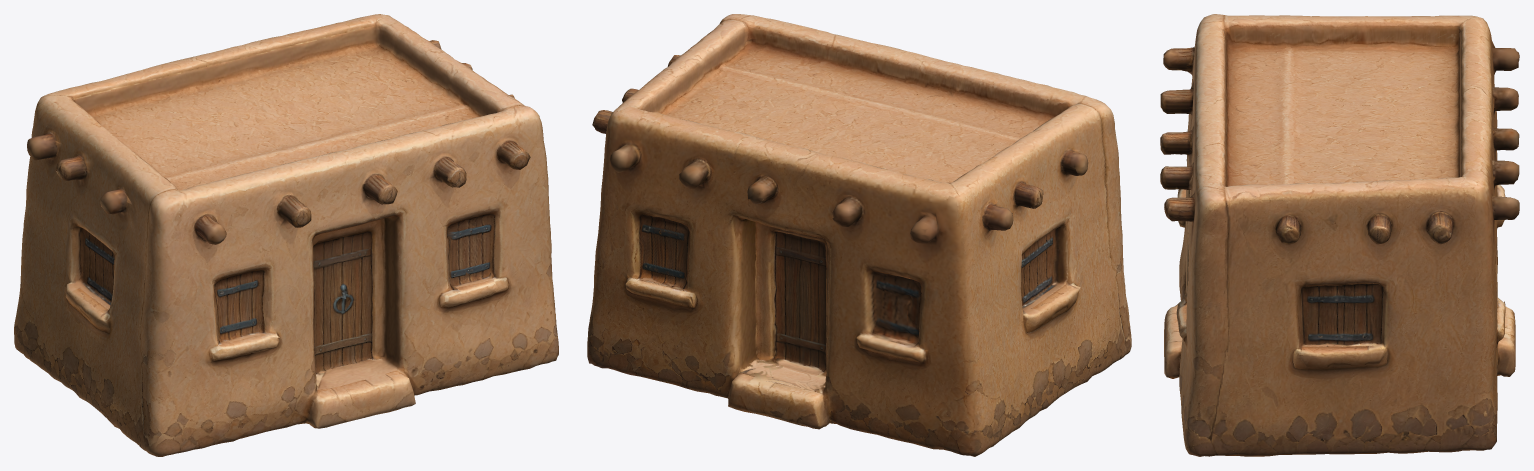
File: DESERT_P01_ADOBE_HOUSE.glb
3 views of the same model, side by side, from view 1: azimuth 30°, elevation 25°; view 2: azimuth 150°, elevation 25°; view 3: azimuth 270°, elevation 25° (orthographic).
Visible parts, largest first — view 1: texture_mapping; view 2: texture_mapping; view 3: texture_mapping.
Boxes of the visible parts, x1,y1,x2,y2 form: texture_mapping: (14,14,558,456); texture_mapping: (587,14,1131,456); texture_mapping: (1160,14,1519,456).
Size of the model in its own units: 0.999 by 0.5885 by 0.743.
Materials: 1 (1 with a texture image).
